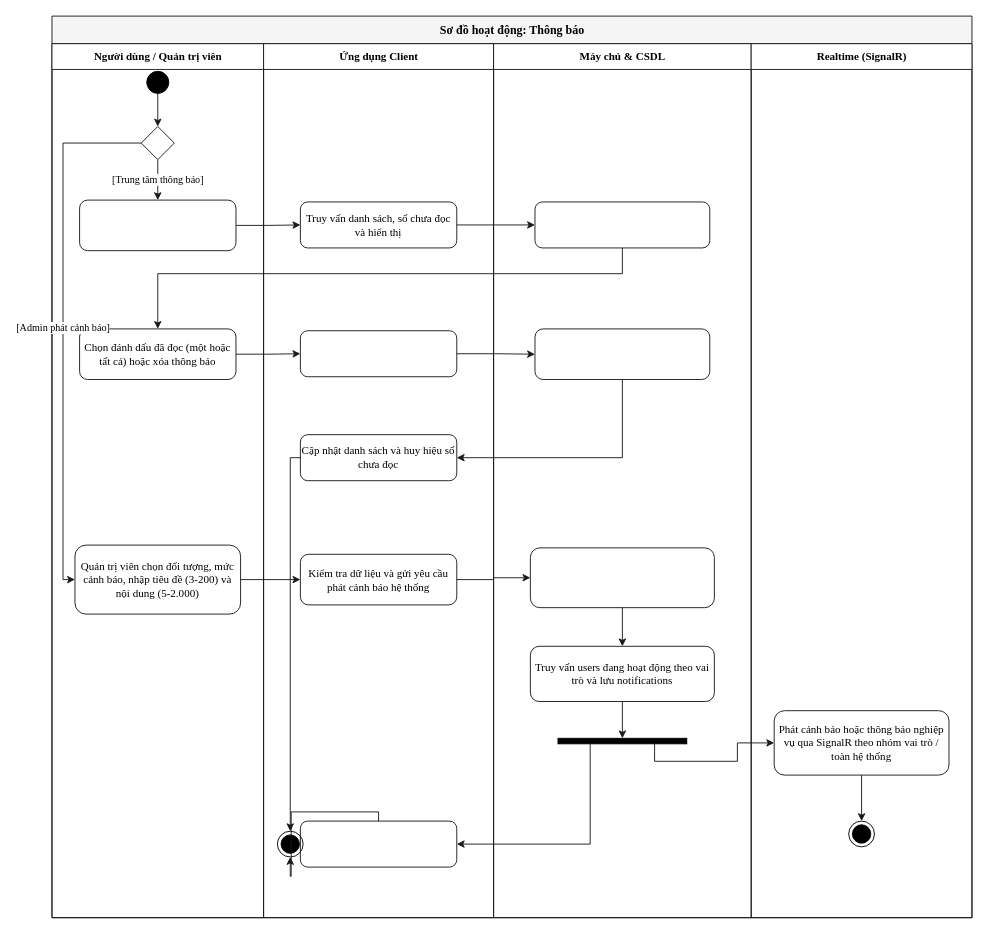
This 988x934 diagram has some shape labels left out. The shapes that lost their labels are listed below. From the top down, each one's centre as x and y in pixels, then its label:
point 157,225: Mở trung tâm thông báo và xem danh sách, số chưa đọc
point 622,224: Truy vấn notifications theo người dùng hiện tại
point 378,353: Gửi yêu cầu cập nhật trạng thái hoặc xóa thông báo
point 622,354: Kiểm tra quyền sở hữu và cập nhật hoặc xóa notifications
point 621,577: Kiểm tra quyền Admin, đối tượng (SystemAll/Candidate/Recruiter) và độ dài
point 378,843: Thông báo phát cảnh báo thành công
